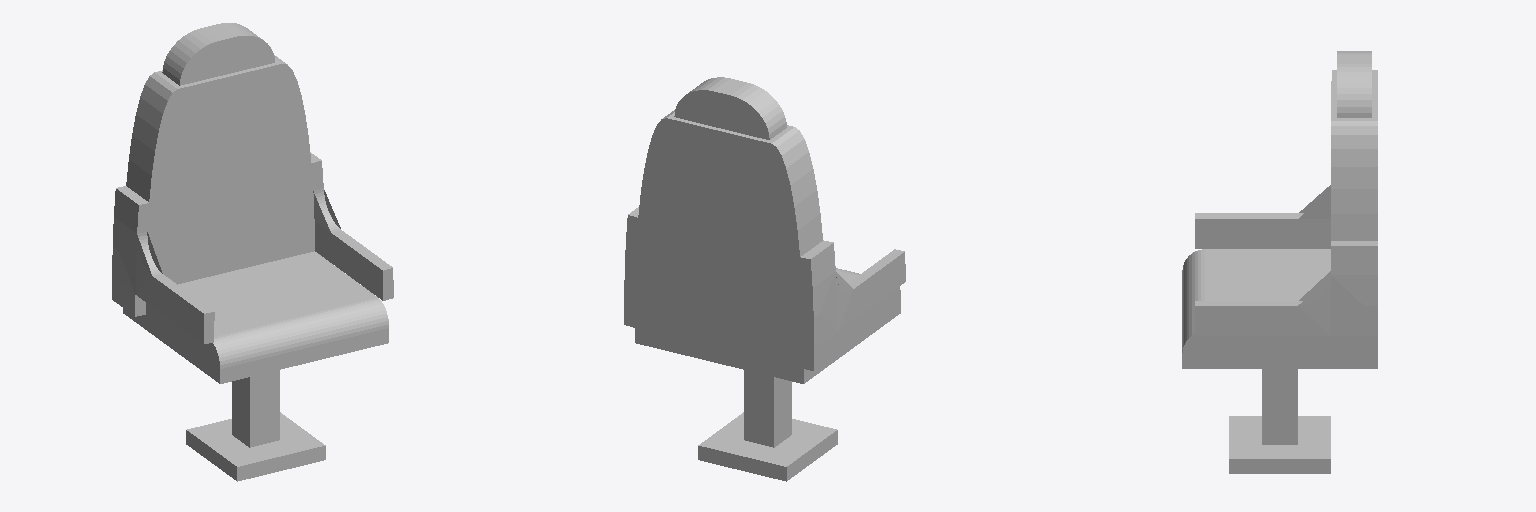
Rendered from Chair 3.obj.
The picture shows the model from 3 angles: view 1: azimuth 30°, elevation 25°; view 2: azimuth 150°, elevation 25°; view 3: azimuth 270°, elevation 25°; orthographic projection.
Visible parts, largest first — view 1: Cube_Cube.001, Cube_Plate_Cube.001_Plate, Cube.001_Cube.002; view 2: Cube_Cube.001, Cube.001_Cube.002, Cube_Plate_Cube.001_Plate; view 3: Cube_Cube.001, Cube_Plate_Cube.001_Plate, Cube.001_Cube.002.
Part boxes in pixels (x1,y1,x2,y2): Cube_Cube.001: (123,23,388,383); Cube_Plate_Cube.001_Plate: (112,152,393,343); Cube.001_Cube.002: (186,370,325,481); Cube_Cube.001: (635,77,900,383); Cube.001_Cube.002: (698,370,837,481); Cube_Plate_Cube.001_Plate: (624,207,905,370); Cube_Cube.001: (1182,51,1377,368); Cube_Plate_Cube.001_Plate: (1195,185,1377,358); Cube.001_Cube.002: (1229,369,1330,473).
Bounding box in the file's own units: 1.27 × 2.51 × 1.13.